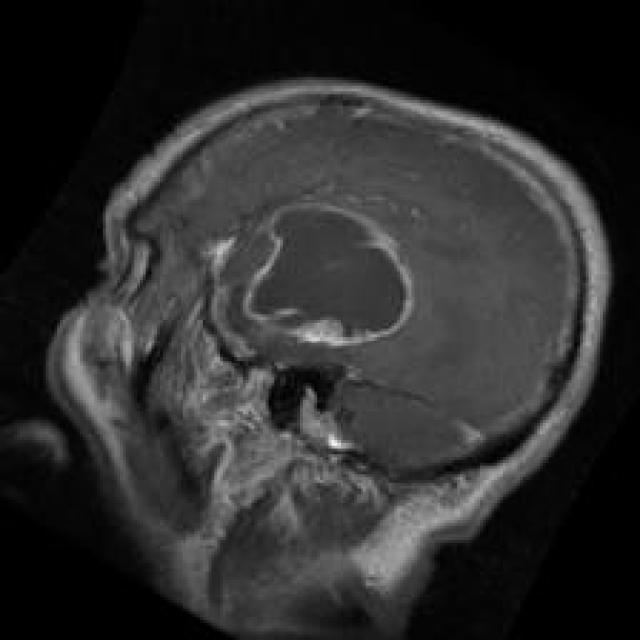glioma_tumor: (234, 195, 431, 356)
